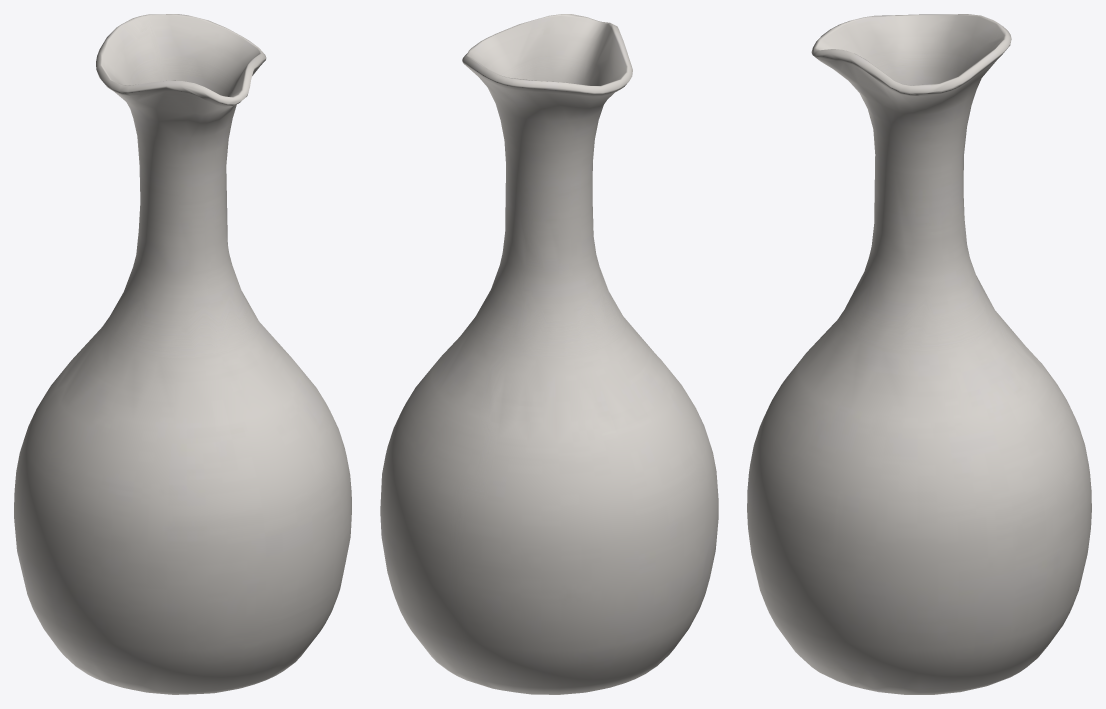
The model's file is ceramic_vase_01.glb.
3 renders of one model, left to right at view 1: azimuth 30°, elevation 25°; view 2: azimuth 150°, elevation 25°; view 3: azimuth 270°, elevation 25°, orthographic.
Visible parts, largest first — view 1: ceramic_vase_01; view 2: ceramic_vase_01; view 3: ceramic_vase_01.
Boxes of the visible parts, x1,y1,x2,y2 form: ceramic_vase_01: (14, 14, 351, 694); ceramic_vase_01: (380, 14, 718, 694); ceramic_vase_01: (747, 14, 1091, 694).
Size of the model in its own units: 0.2036 by 0.4003 by 0.2036.
1 material, 1 textured.
